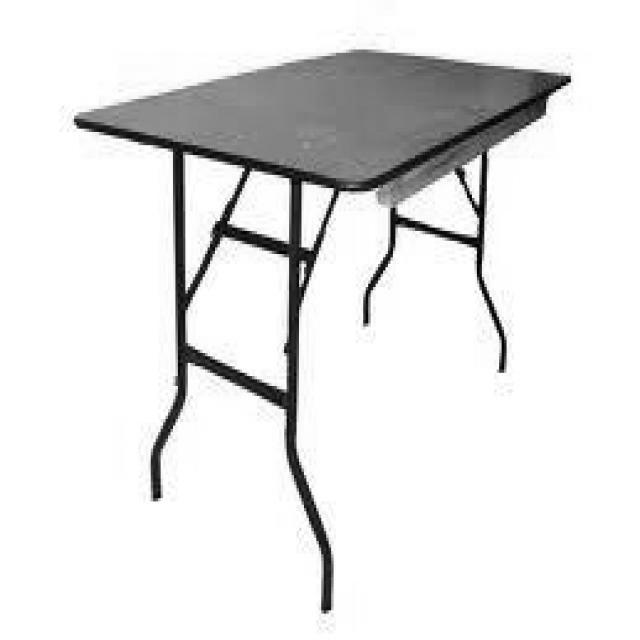table: (76, 44, 572, 608)
